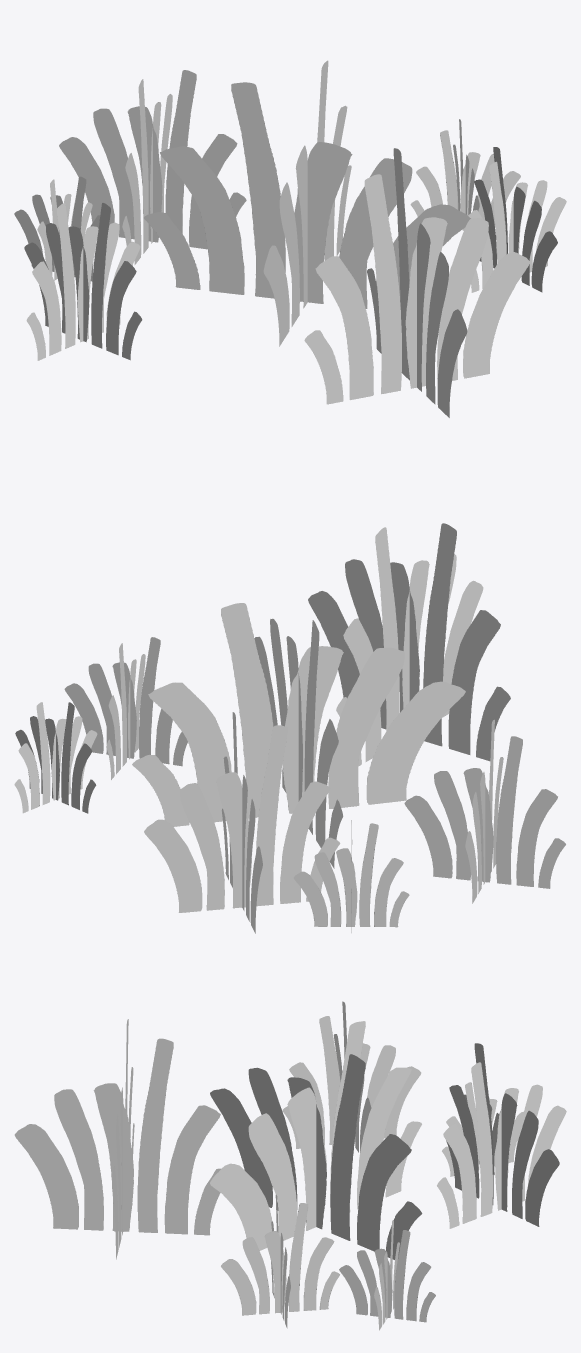
The model's file is SM_Grass2.fbx.
3 views of the same model, one above another, from view 1: azimuth 30°, elevation 25°; view 2: azimuth 150°, elevation 25°; view 3: azimuth 270°, elevation 25° (orthographic). The views are drawn at different scales.
Visible parts, largest first — view 1: SM_Grass2; view 2: SM_Grass2; view 3: SM_Grass2.
Boxes of the visible parts, left/top/right/bottom form: SM_Grass2: left=14, top=60, right=566, bottom=417; SM_Grass2: left=14, top=523, right=565, bottom=933; SM_Grass2: left=14, top=1001, right=566, bottom=1330.
Bounding box in the file's own units: 96.38 × 40.23 × 101.
